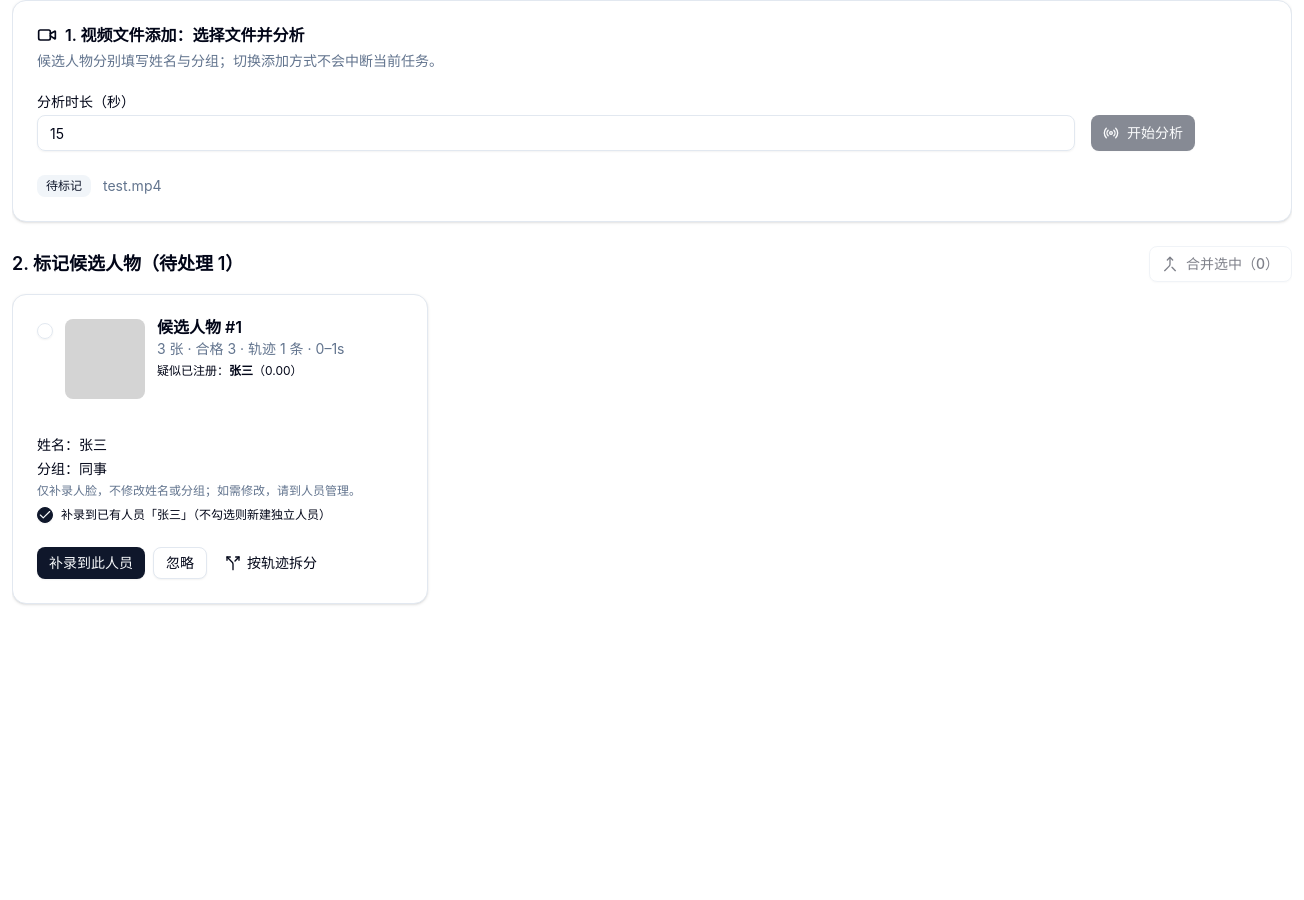
Test: 采集人员的姓名与分组 › 取消补录后可独立新建姓名与分组，不向疑似人员发起修改
This screenshot has width=1304, height=900.
Click the checkbox named "补录到已有人员" next to "补录到已有人员「".
click(45, 515)  # box [37,507,53,523]
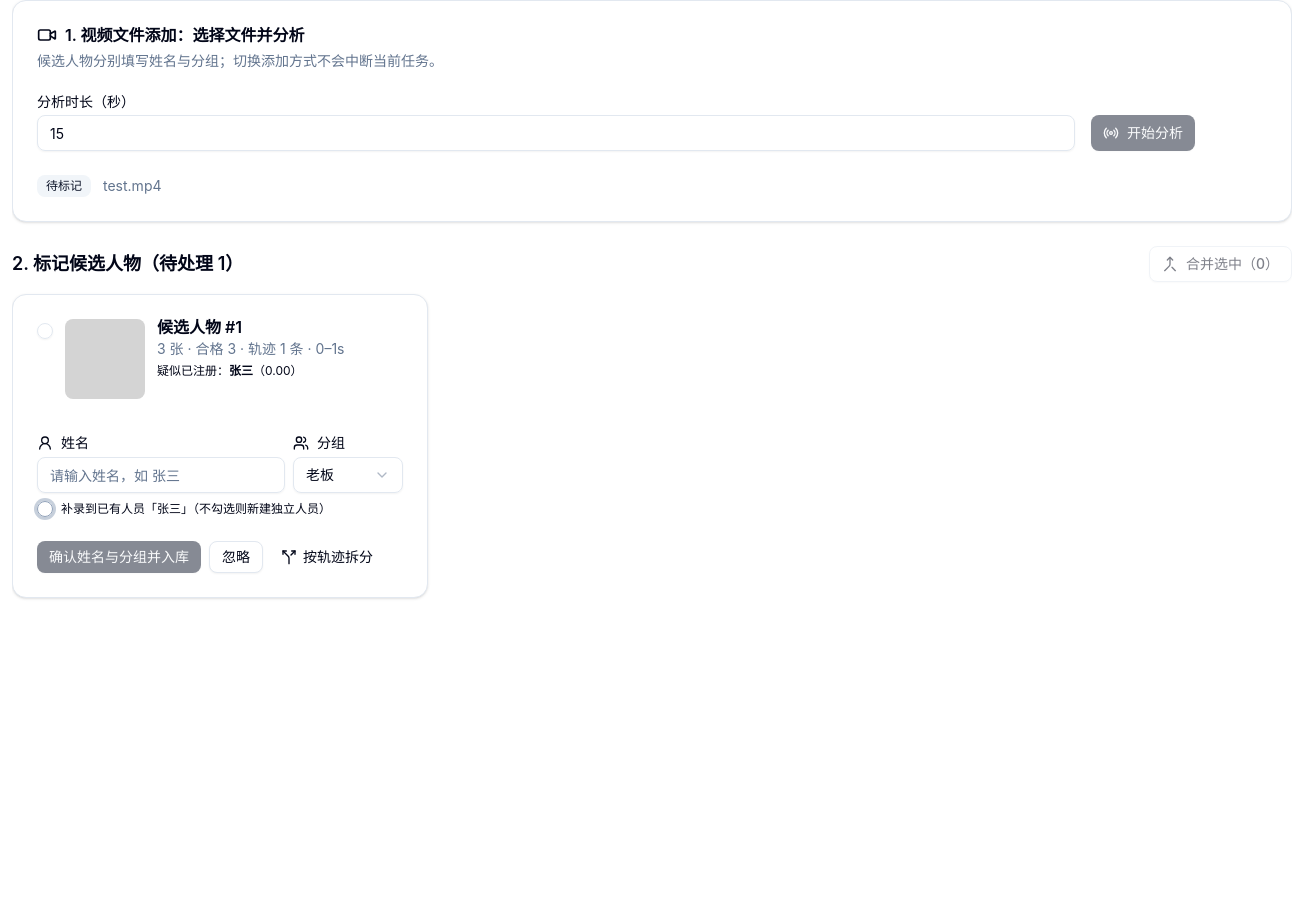
Type "李四" into the field labelled "姓名".
click(161, 475); type("李四")  # box [37,457,285,493]
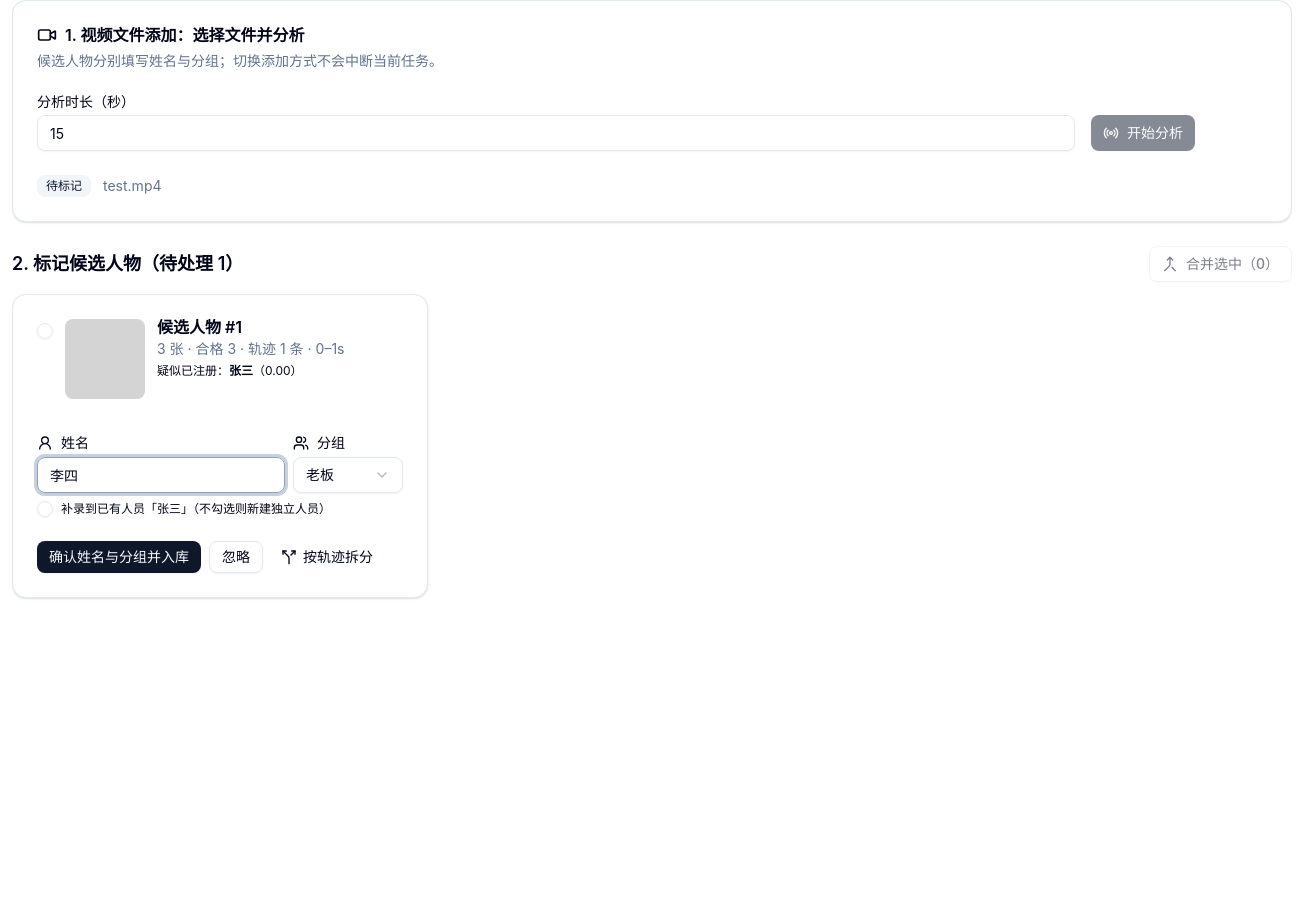
Click the dropdown named "分组".
click(348, 475)  # box [293,457,403,493]
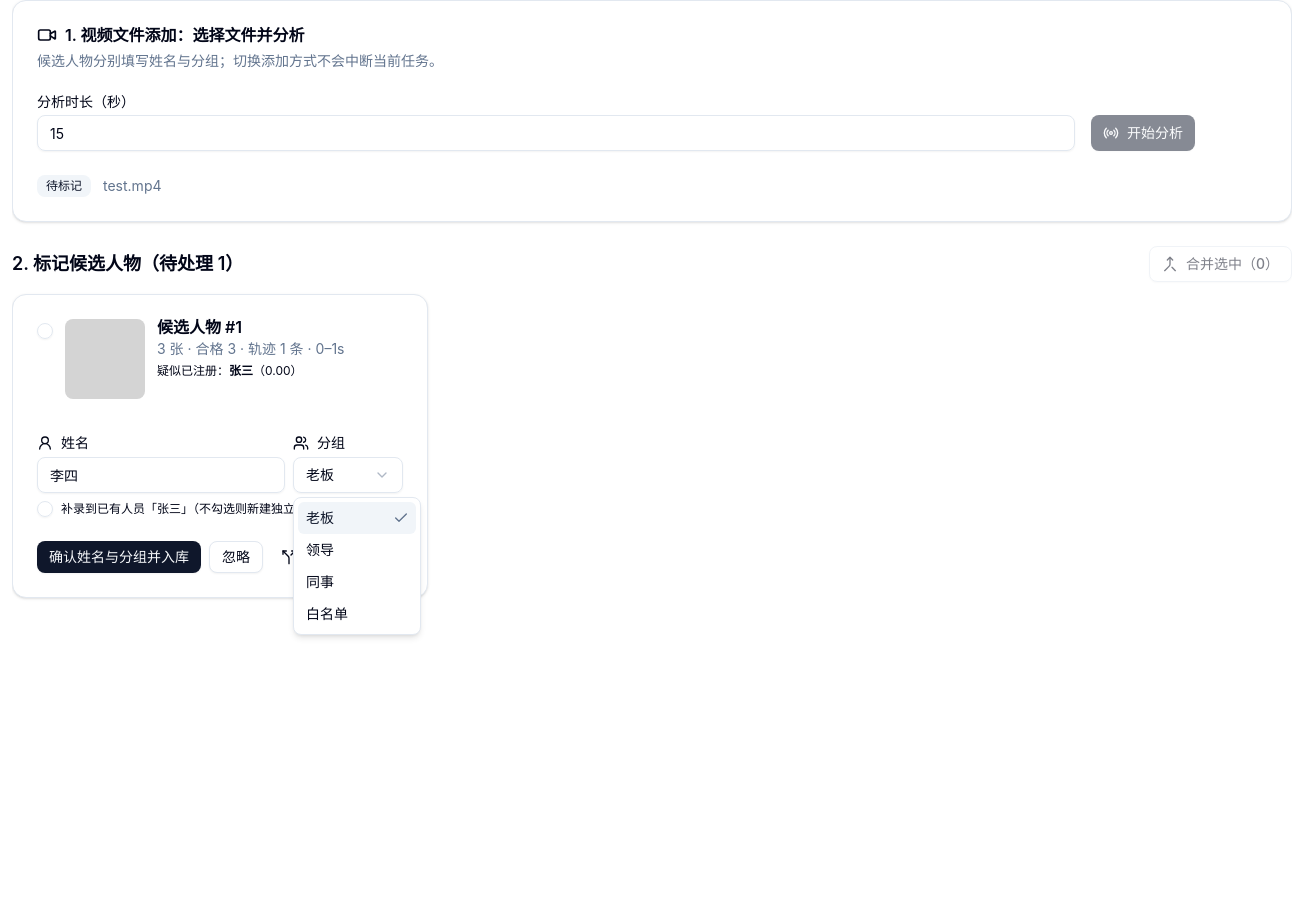
Click the option "同事".
click(320, 582)  # box [306,573,334,590]
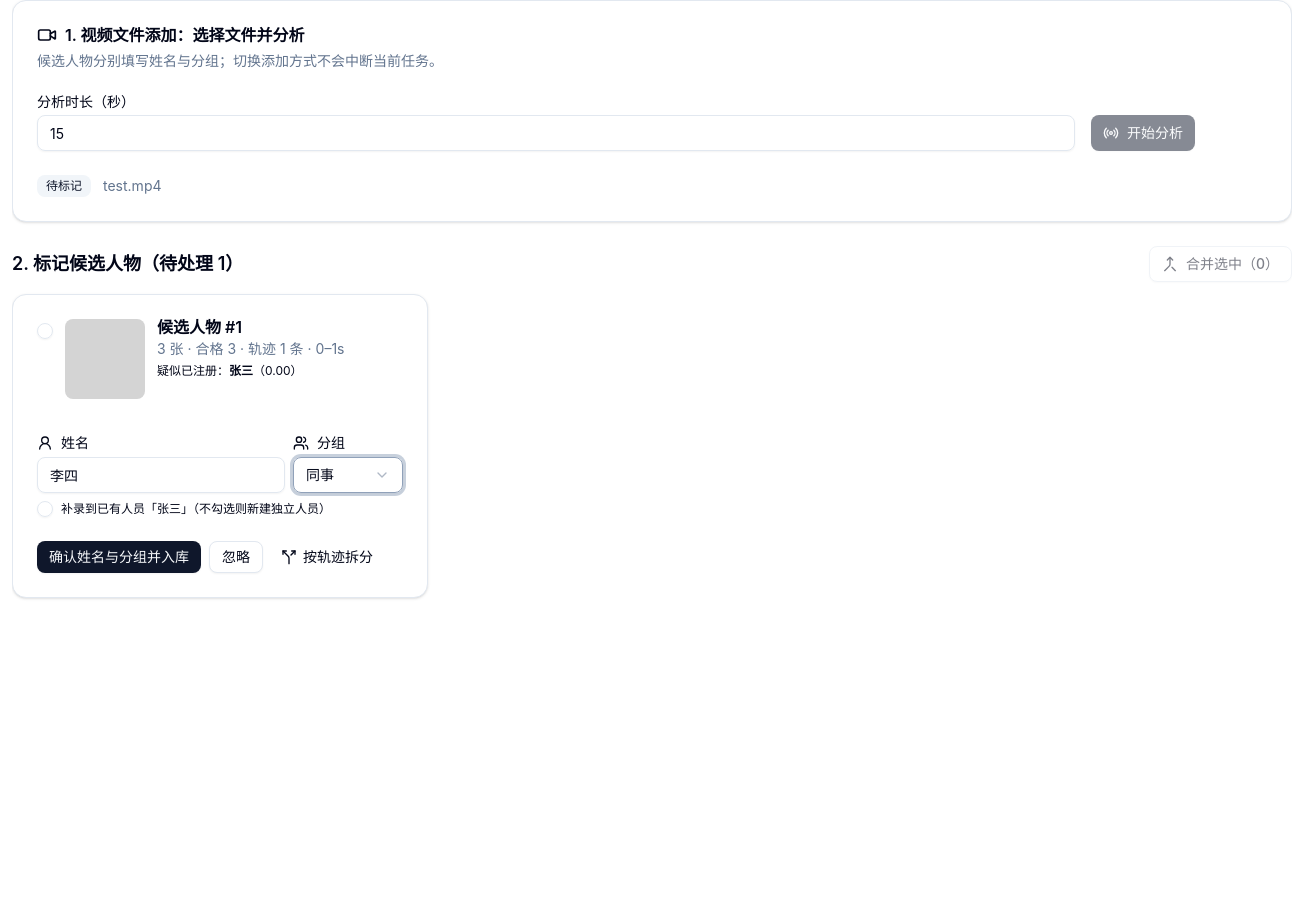
Click the button "确认姓名与分组并入库".
click(119, 557)  # box [37,541,201,573]
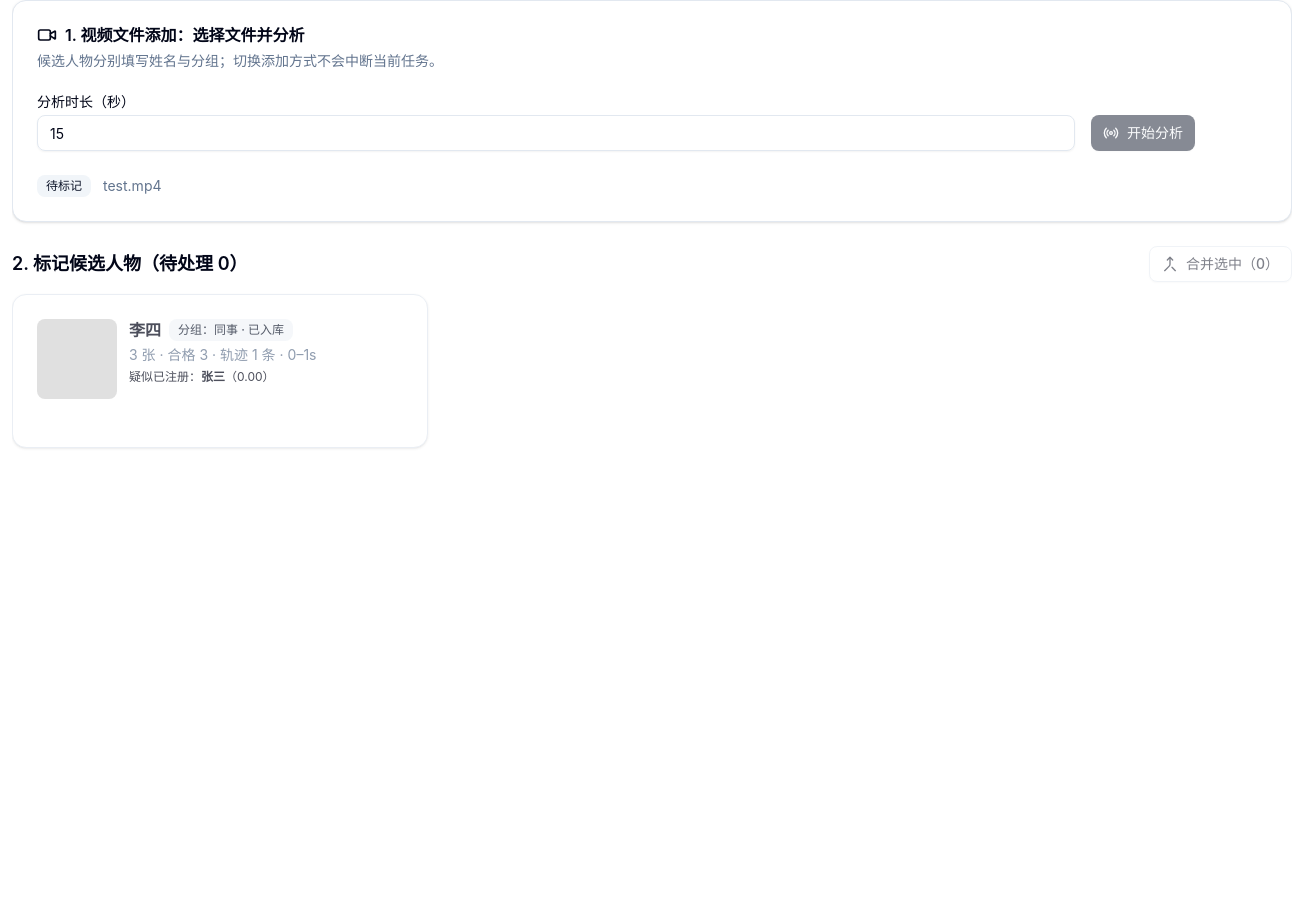
Check: the text "李四" is shown, box [129,322,161,338]
